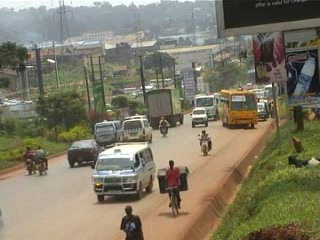Car: (66, 136, 106, 168), (188, 106, 210, 127)
Motorcycle: (20, 144, 37, 175), (32, 144, 49, 175), (196, 127, 214, 156), (157, 115, 169, 137)
